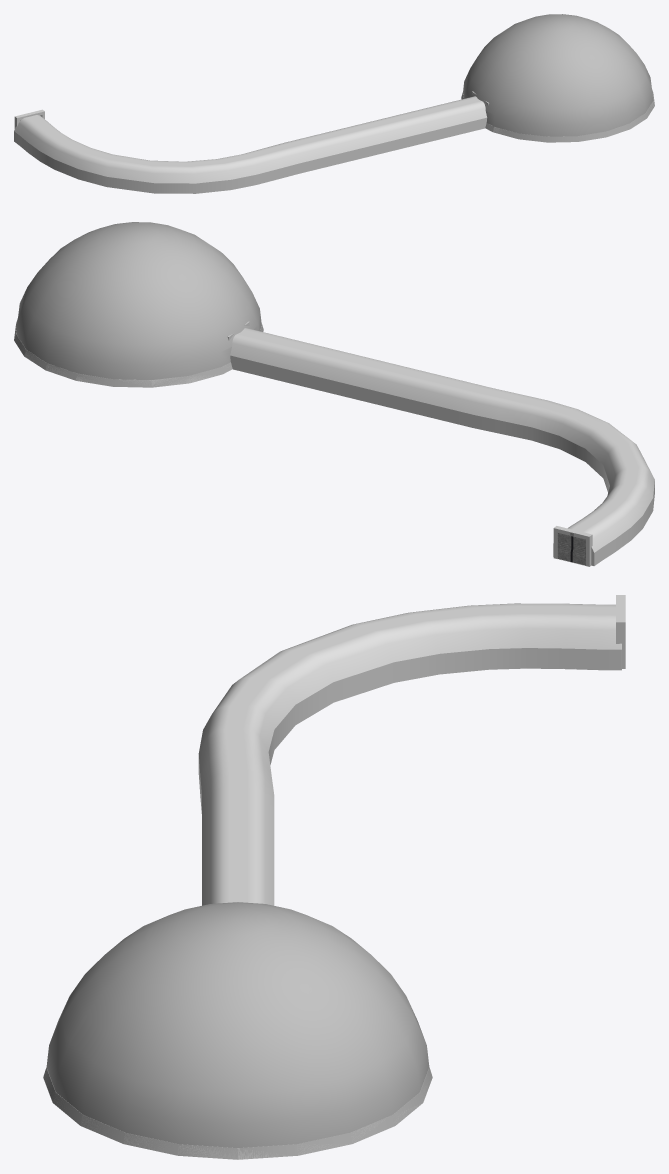
Rendered from Space Dome w Tunnel.fbx.
3 views of the same model, one above another, from view 1: azimuth 30°, elevation 25°; view 2: azimuth 150°, elevation 25°; view 3: azimuth 270°, elevation 25° (orthographic). The views are drawn at different scales.
Parts seen in each view (by area): view 1: dome, tunnel, tunnel_path; view 2: dome, tunnel, underdome_body, door:pasted__pCube004, tunnel_path; view 3: dome, tunnel, underdome_body.
Part boxes in pixels (box(x1,y1,x2,y2)): dome: box(461, 14, 654, 142); tunnel: box(14, 96, 487, 193); tunnel_path: box(14, 128, 484, 193); dome: box(14, 222, 263, 387); tunnel: box(230, 328, 654, 565); underdome_body: box(14, 320, 262, 386); door:pasted__pCube004: box(553, 526, 592, 566); tunnel_path: box(233, 369, 653, 565); dome: box(43, 902, 432, 1159); tunnel: box(198, 603, 621, 905); underdome_body: box(46, 1067, 430, 1159).
Bounding box in the file's own units: 12.98 × 1.82 × 6.13.
